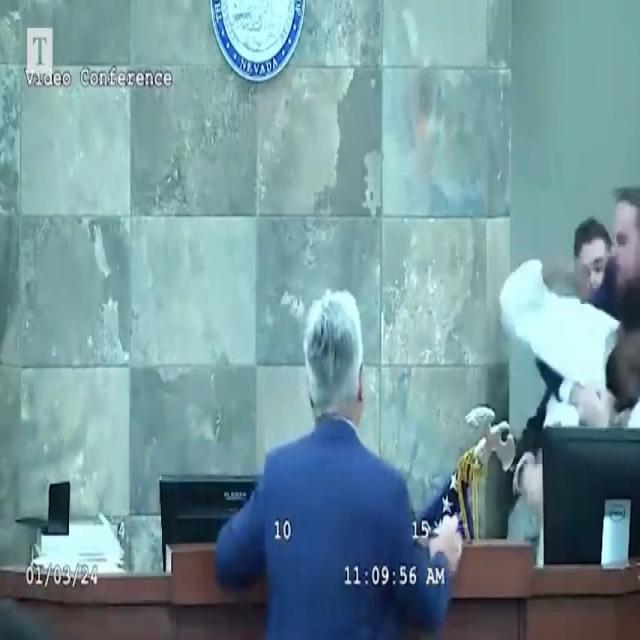fight: (495, 168, 640, 567)
non-fight: (205, 280, 473, 640)
